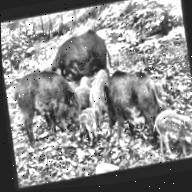boar: (9, 48, 84, 137), (98, 57, 172, 140), (45, 15, 114, 80), (150, 96, 192, 155), (81, 107, 104, 140), (71, 74, 92, 107), (89, 65, 108, 84), (91, 83, 105, 103)
